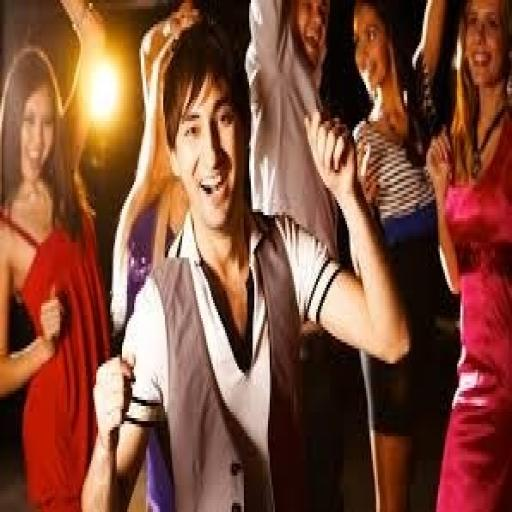dancing: (79, 15, 412, 509)
